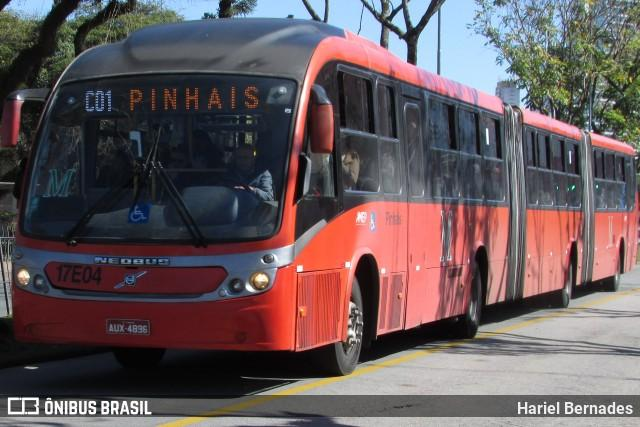PINHAIS: (125, 86, 263, 111)
